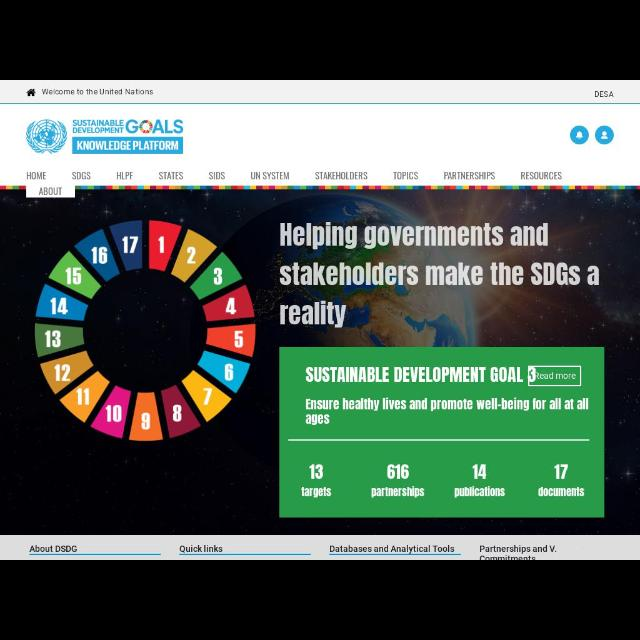backgroundimage: (1, 185, 639, 533)
button: (569, 126, 589, 144), (594, 126, 614, 144)
icon: (26, 88, 36, 96), (600, 131, 608, 139), (576, 131, 582, 139)
image: (25, 118, 186, 156)
multitab: (26, 170, 564, 182)
panel: (278, 345, 606, 519)
text: (278, 220, 602, 332), (306, 398, 590, 426), (306, 365, 524, 383), (478, 543, 556, 559), (329, 546, 456, 554), (42, 88, 154, 96), (370, 486, 424, 500), (453, 487, 507, 499), (538, 487, 586, 498), (384, 464, 412, 481), (178, 544, 225, 554), (444, 172, 496, 180), (315, 172, 367, 180), (28, 545, 78, 553), (300, 486, 332, 498), (534, 372, 576, 381), (521, 172, 563, 180), (470, 464, 488, 481), (251, 172, 289, 180), (308, 463, 324, 481), (392, 171, 418, 181), (554, 464, 568, 481), (38, 187, 62, 196), (158, 172, 184, 180), (27, 172, 46, 180), (115, 172, 133, 180), (72, 172, 90, 180), (594, 91, 614, 97), (210, 171, 224, 179)
textbutton: (527, 364, 583, 388)
toolbar: (1, 82, 640, 185)
